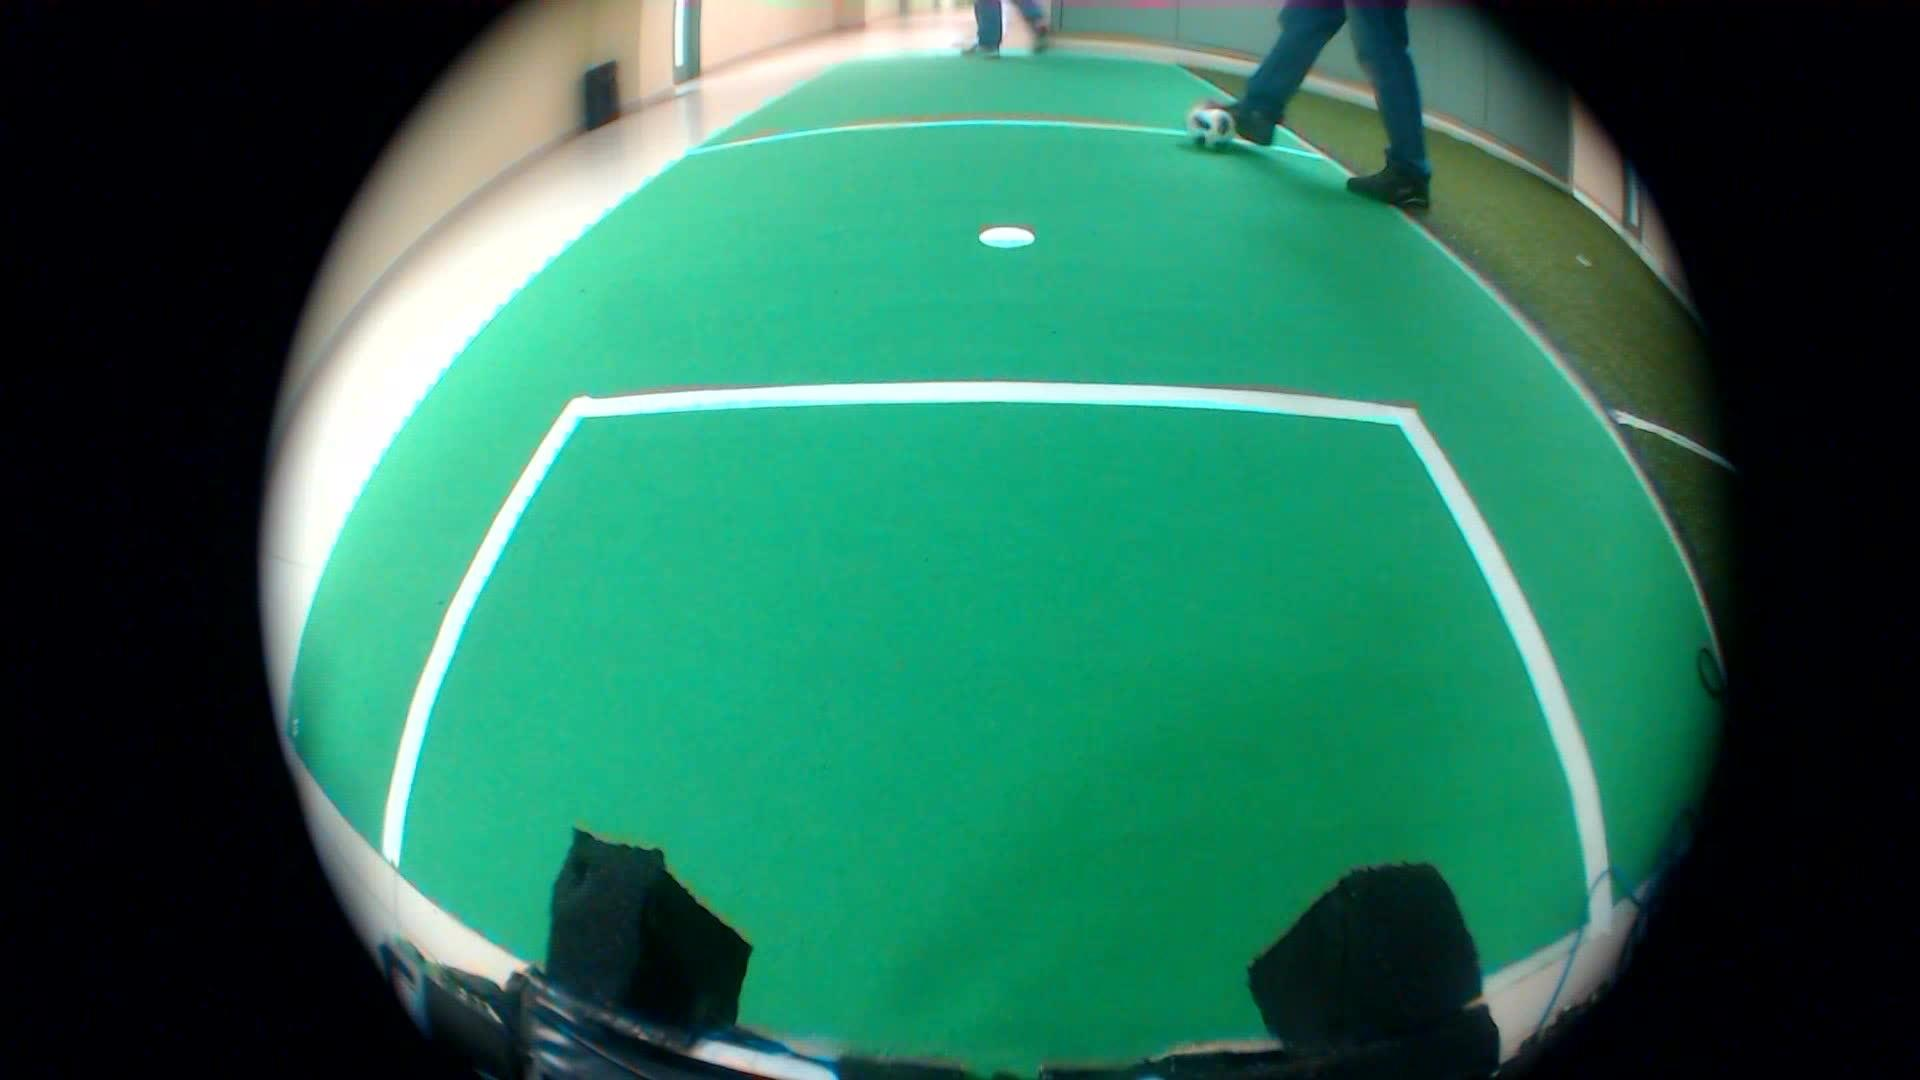ball: (1182, 94, 1242, 162)
